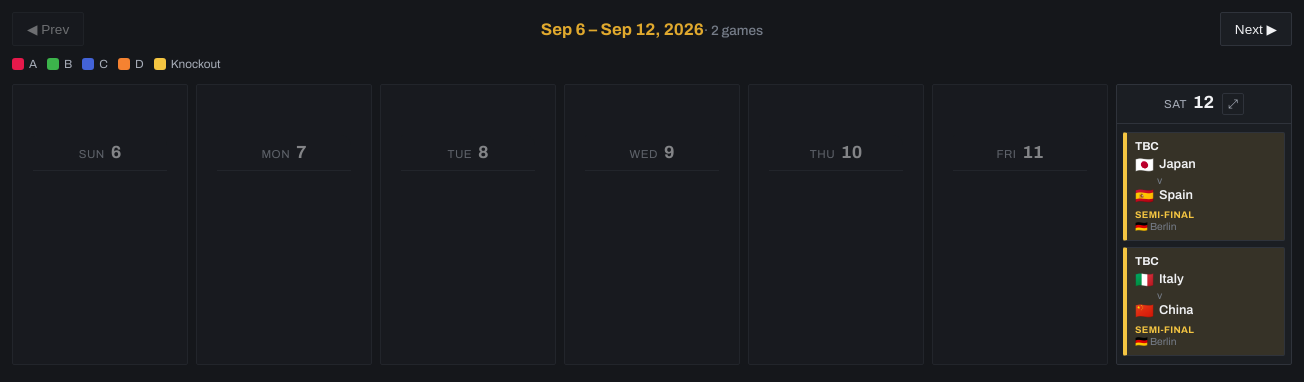
Scenario: the very last arms › expands BOTH sides of a cell whose two feeds are set
Click the button "Next ▶": (1256, 29) [1220,12,1292,46]
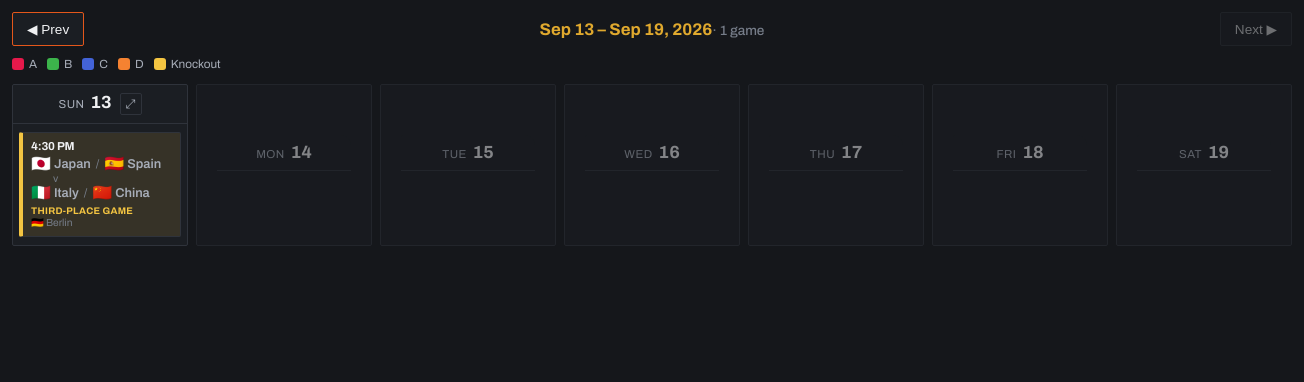
expect the button with class "week-cell" is shown: met, box [19,132,181,237]
expect the number of elements with class "feeder-cand" is 4: met, box [31,156,91,172]; [104,156,161,172]; [31,185,79,201]; [92,185,150,201]
